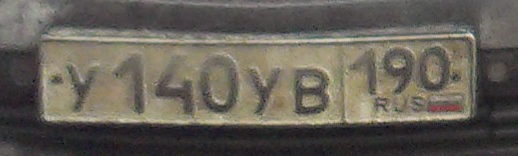character: (151, 53, 200, 116), (111, 45, 151, 116), (200, 53, 244, 116), (246, 60, 287, 119), (292, 64, 335, 118), (64, 60, 104, 113), (382, 46, 419, 95), (348, 49, 381, 99), (419, 43, 453, 90)
